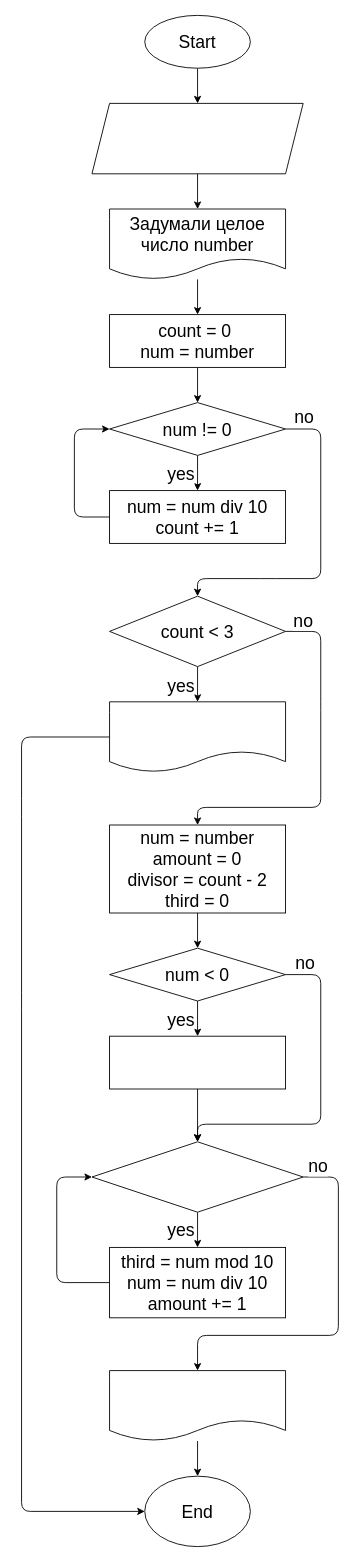
The diagram is 361 pixels wide and 1562 high, and some of its shapes have lost their labels. The centre of each missing label's shape, as x and y in pixels:
"amount < divisor" belongs at pixel 197 1176.
"num = num * (-1)" belongs at pixel 197 1062.
"number = Random (-999_999_999, 999_999_999)" belongs at pixel 197 138.
"В этом числе третьей цифры нет" belongs at pixel 197 736.
"Третья цифра числа: third" belongs at pixel 197 1405.
